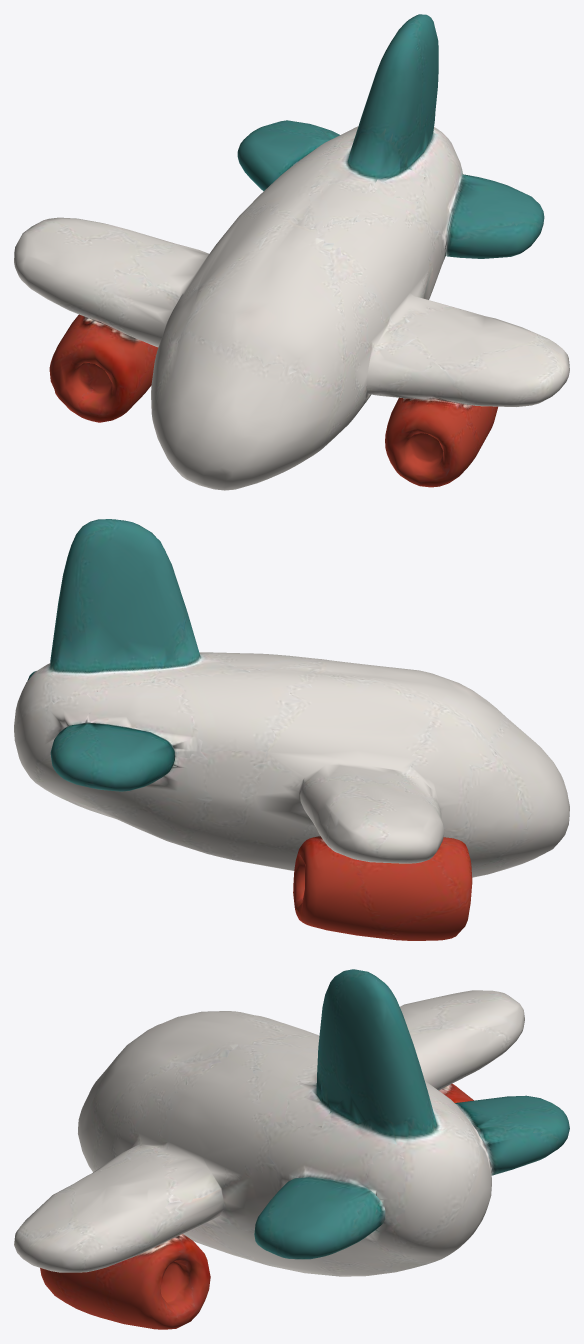
The model's file is deco-plane.glb.
3 renders of one model, top to bottom at view 1: azimuth 30°, elevation 25°; view 2: azimuth 150°, elevation 25°; view 3: azimuth 270°, elevation 25°, orthographic. The views are drawn at different scales.
Parts seen in each view (by area): view 1: tripo_node_b484ae92-fb7a-4d46-a3fe-7b7d156e0ae5; view 2: tripo_node_b484ae92-fb7a-4d46-a3fe-7b7d156e0ae5; view 3: tripo_node_b484ae92-fb7a-4d46-a3fe-7b7d156e0ae5.
Part boxes in pixels (x1,y1,x2,y2): tripo_node_b484ae92-fb7a-4d46-a3fe-7b7d156e0ae5: (14,14,569,490); tripo_node_b484ae92-fb7a-4d46-a3fe-7b7d156e0ae5: (14,519,569,940); tripo_node_b484ae92-fb7a-4d46-a3fe-7b7d156e0ae5: (14,969,569,1329).
Bounding box in the file's own units: 0.9791 × 0.7156 × 0.9221.
Materials: 1 (1 with a texture image).
